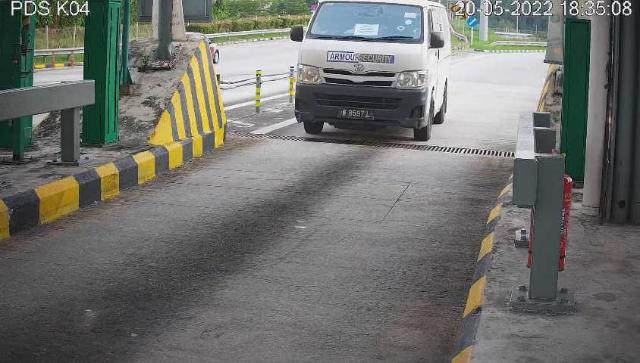License_Plate: (339, 107, 377, 124)
van: (296, 2, 452, 143)
